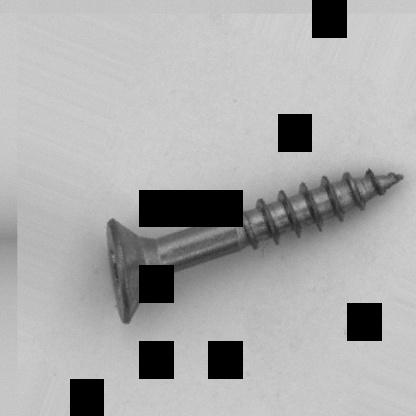metal: (105, 165, 407, 325)
